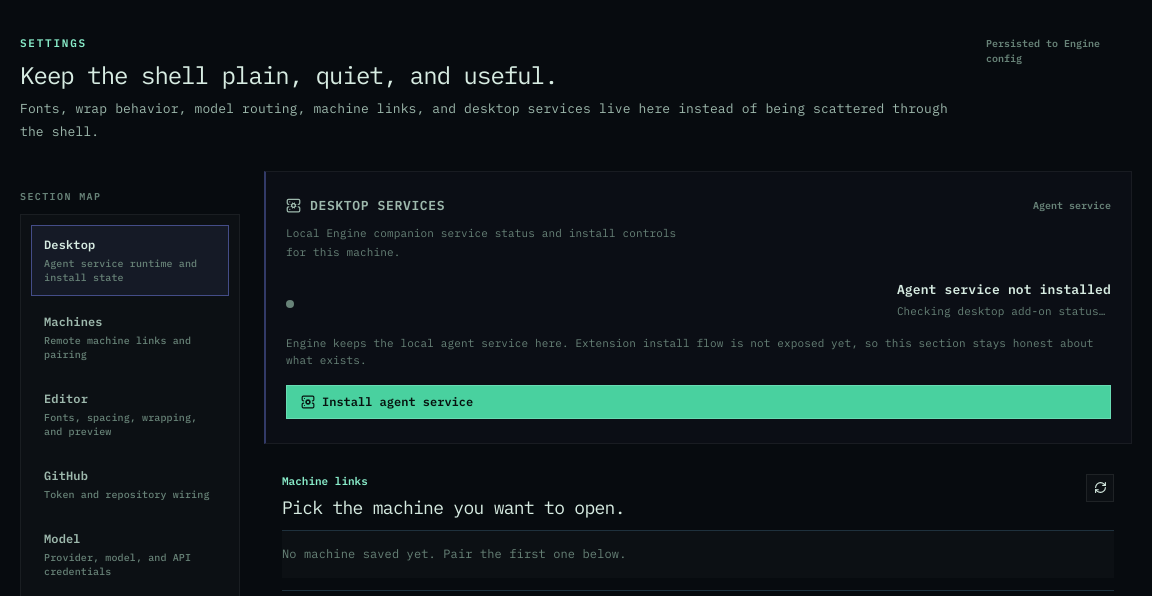
PreferencesPanel — section navigation › EditorAppearanceClicked_FontAndSizeControlsShown
Click the tab "Editor Fonts, spacing, wrapping, and preview".
click(130, 414)  # box [31,379,229,450]
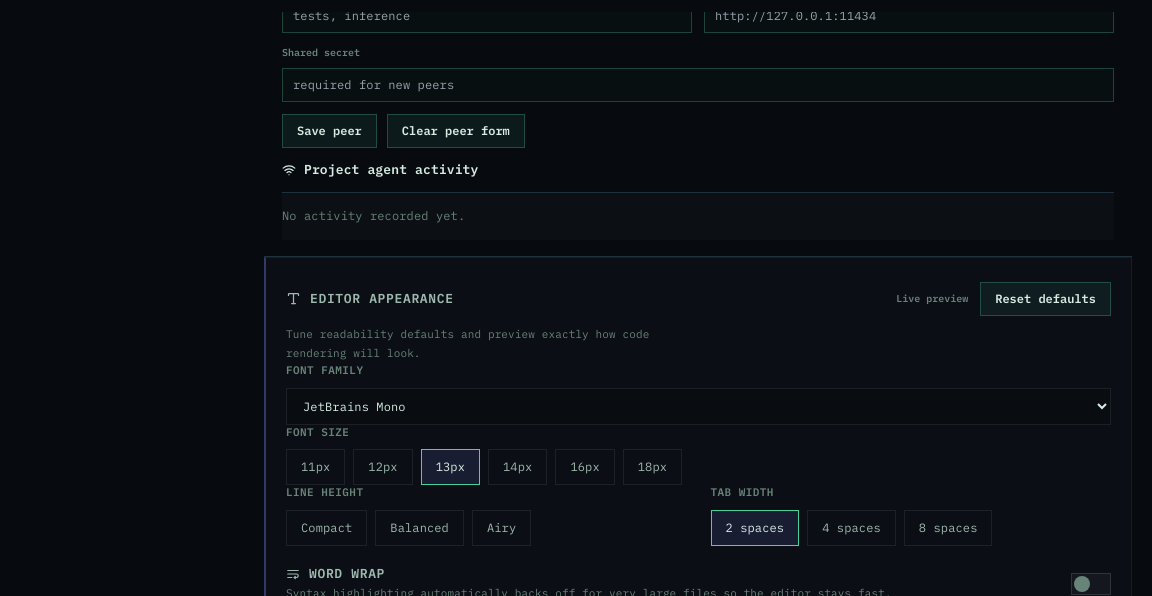
Expected: the text "Font family" is shown, [286,364,364,378]
